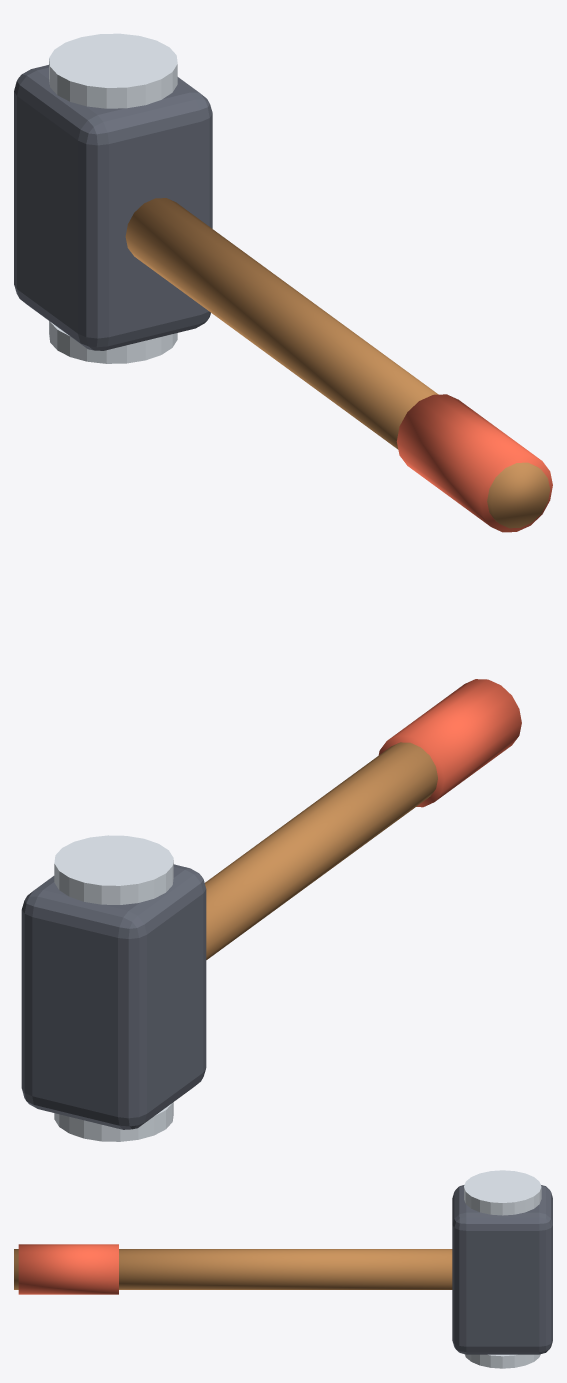
Rendered from hammer.glb.
3 views of the same model, one above another, from view 1: azimuth 30°, elevation 25°; view 2: azimuth 150°, elevation 25°; view 3: azimuth 270°, elevation 25° (orthographic). The views are drawn at different scales.
Parts seen in each view (by area): view 1: Hammer; view 2: Hammer; view 3: Hammer.
Part boxes in pixels (x1=…): Hammer: x1=14, y1=33, x2=552, y2=532; Hammer: x1=21, y1=679, x2=521, y2=1141; Hammer: x1=14, y1=1170, x2=552, y2=1368.
Bounding box in the file's own units: 0.2001 × 0.4 × 1.18.
